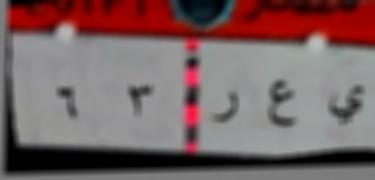3: (124, 77, 158, 122)
6: (54, 78, 83, 128)
ain: (264, 76, 304, 131)
raa: (209, 87, 243, 130)
yaa: (326, 80, 368, 132)
